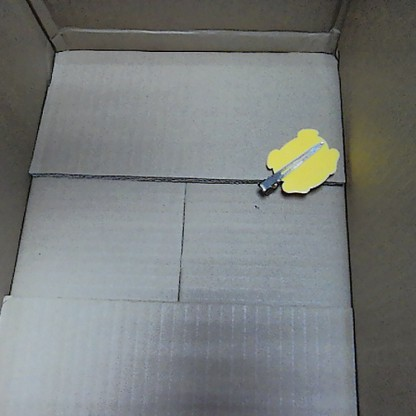dogclip: (253, 123, 339, 198)
